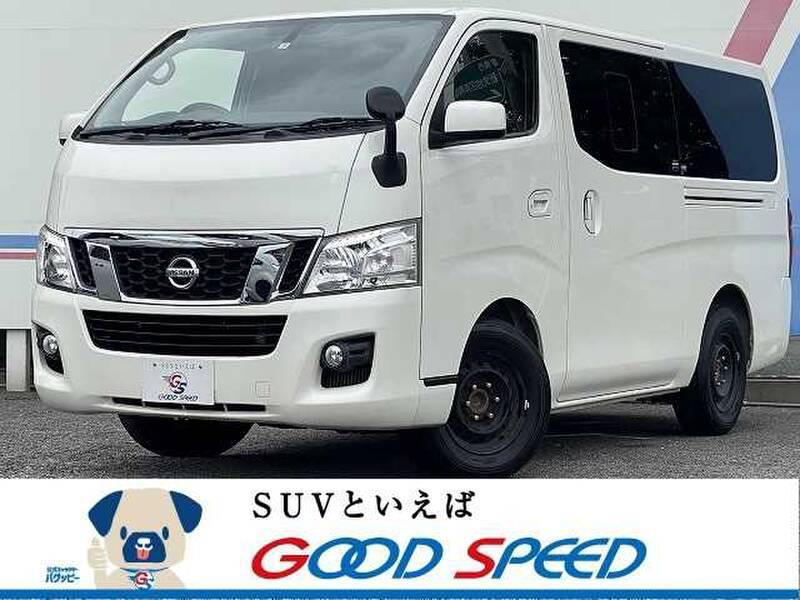Van: (37, 13, 794, 446)
